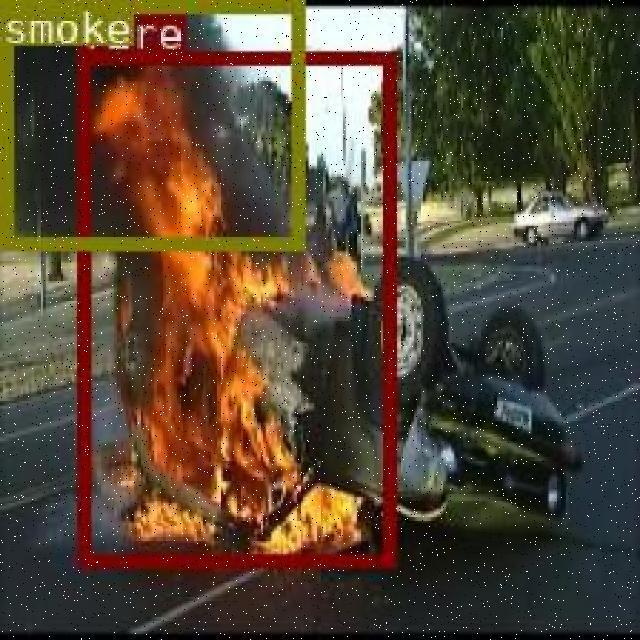Smoke: (0, 0, 236, 245)
